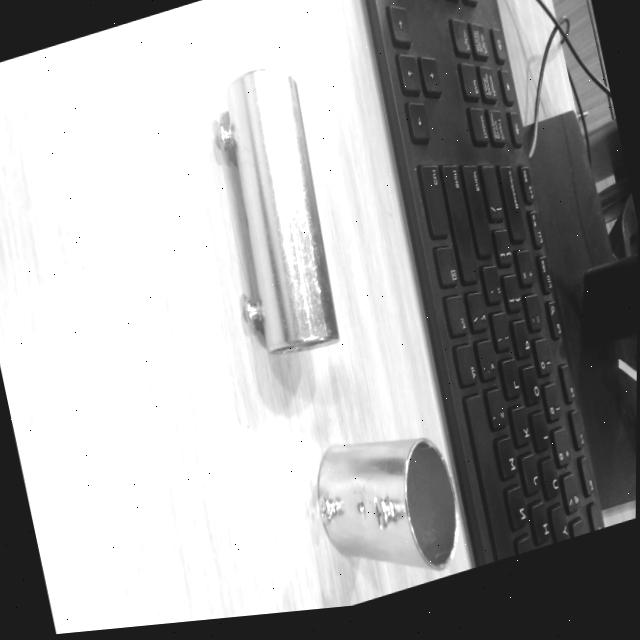Co_Lon: (206, 63, 340, 358)
Co_Nho: (315, 435, 460, 575)
